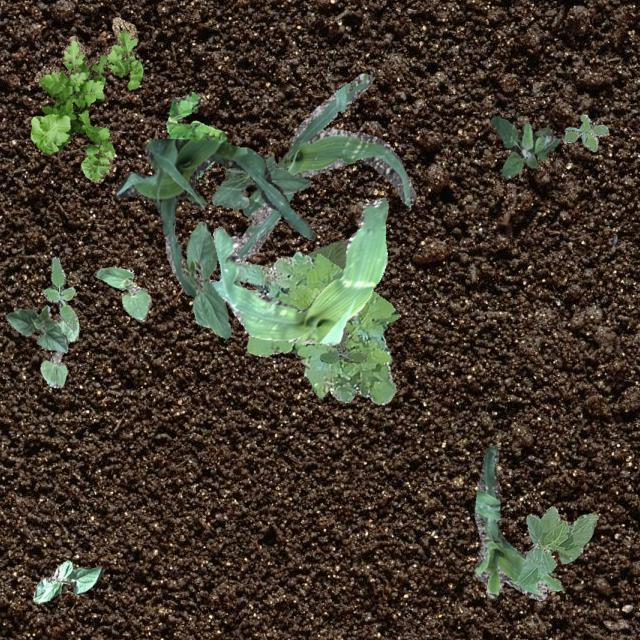crop: (234, 73, 416, 260), (116, 137, 314, 296), (208, 197, 388, 346), (473, 444, 561, 600), (516, 506, 598, 584), (180, 220, 230, 338), (210, 154, 310, 208), (32, 560, 104, 604), (94, 266, 150, 320), (4, 304, 66, 352), (40, 316, 78, 386), (306, 240, 346, 268)
weed: (238, 251, 398, 404), (30, 15, 142, 182), (164, 92, 224, 180), (489, 116, 558, 178), (42, 256, 76, 330), (318, 326, 366, 362), (562, 114, 608, 150)
